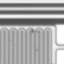dust: (30, 28, 34, 33)
